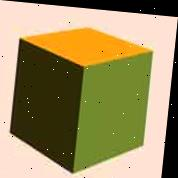cube: (9, 21, 155, 176)
